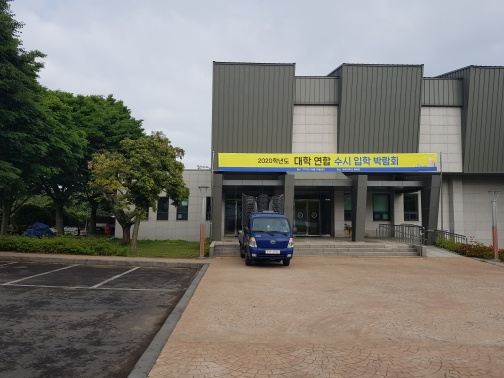Gym: (161, 38, 500, 255), (207, 48, 492, 155), (198, 170, 452, 221)
